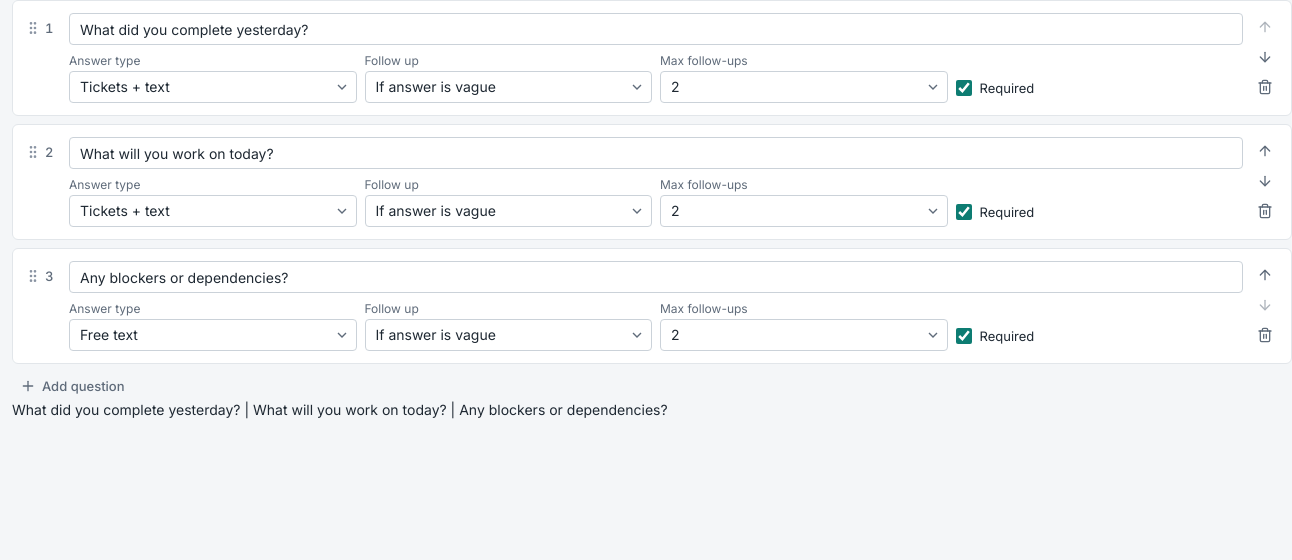
it: QuestionListEditor › adds and removes questions
Click the button "Add question" at (72, 386), box [12, 372, 132, 400]
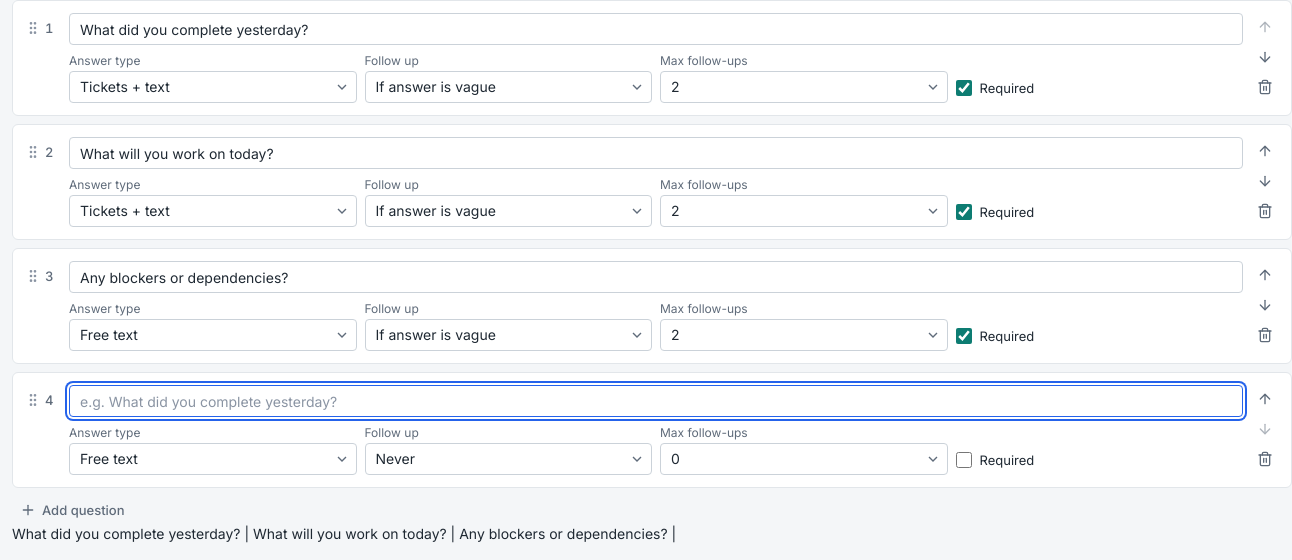
Expected: the number of list items is 4, [12, 0, 1291, 116]; [12, 124, 1291, 240]; [12, 248, 1291, 364]; [12, 372, 1291, 488]
Click the button named "Remove question 1" at (1265, 87), box [1251, 73, 1279, 101]
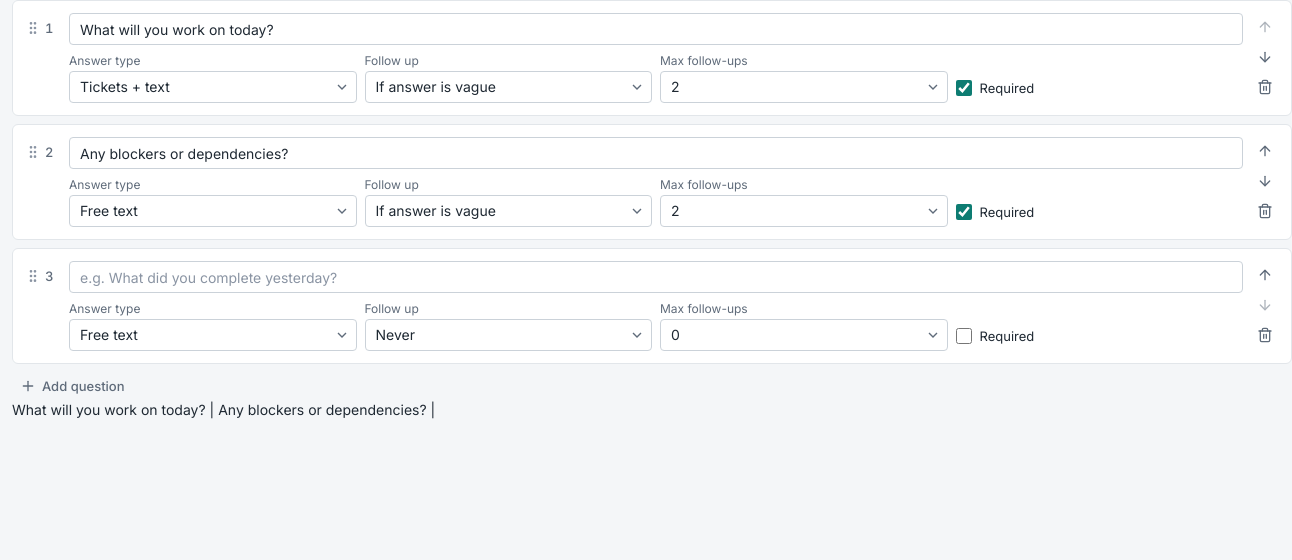
Expected: the number of list items is 3, [12, 0, 1291, 116]; [12, 124, 1291, 240]; [12, 248, 1291, 364]
